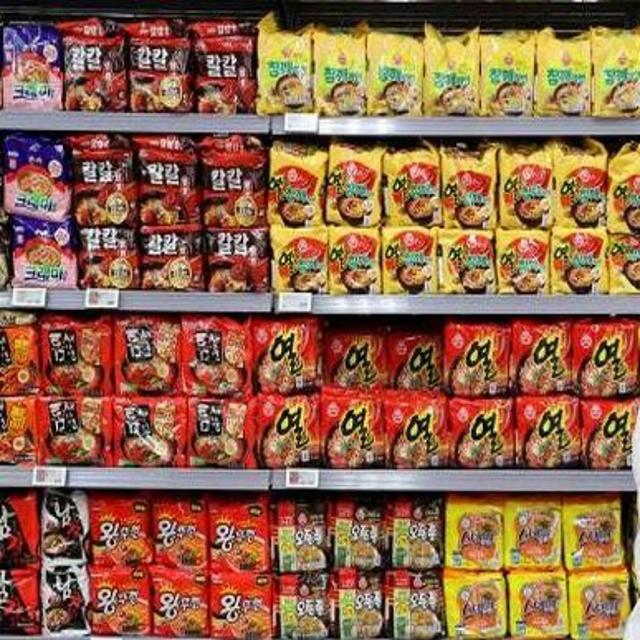product: (67, 135, 139, 225), (187, 25, 256, 116), (182, 313, 255, 399), (107, 393, 190, 467), (197, 135, 263, 228), (63, 23, 130, 114), (439, 138, 501, 236), (111, 318, 185, 397), (7, 215, 80, 295), (135, 134, 203, 219), (41, 319, 114, 398), (1, 26, 66, 112), (323, 137, 383, 229), (379, 143, 443, 229), (131, 22, 193, 110), (251, 319, 324, 393), (204, 568, 279, 640), (207, 495, 273, 575), (380, 491, 446, 571), (421, 28, 479, 119), (477, 28, 536, 117), (268, 141, 327, 230), (5, 139, 69, 221), (364, 31, 425, 117), (39, 398, 112, 469), (183, 394, 254, 467), (146, 493, 209, 575), (509, 316, 577, 391), (519, 395, 584, 473), (256, 33, 316, 117), (312, 27, 369, 115), (445, 322, 510, 399), (535, 31, 593, 117), (449, 397, 517, 470), (324, 493, 386, 573), (380, 564, 445, 640), (269, 497, 334, 572), (254, 396, 321, 468), (558, 503, 628, 571), (581, 321, 640, 401), (87, 496, 151, 568), (565, 571, 631, 640), (75, 222, 139, 293), (328, 563, 387, 640), (386, 395, 447, 469), (140, 573, 214, 634), (495, 148, 549, 231), (510, 569, 573, 640), (324, 395, 385, 468), (446, 497, 506, 571), (277, 567, 337, 640), (438, 225, 495, 301), (139, 223, 203, 290), (87, 569, 149, 638), (551, 151, 605, 229), (381, 224, 438, 297), (446, 576, 510, 640), (271, 227, 331, 295), (498, 227, 553, 301), (504, 499, 562, 569), (206, 227, 269, 291), (37, 493, 89, 567), (551, 233, 609, 299), (38, 566, 91, 638), (324, 329, 383, 392), (384, 329, 443, 392), (328, 227, 381, 296)
